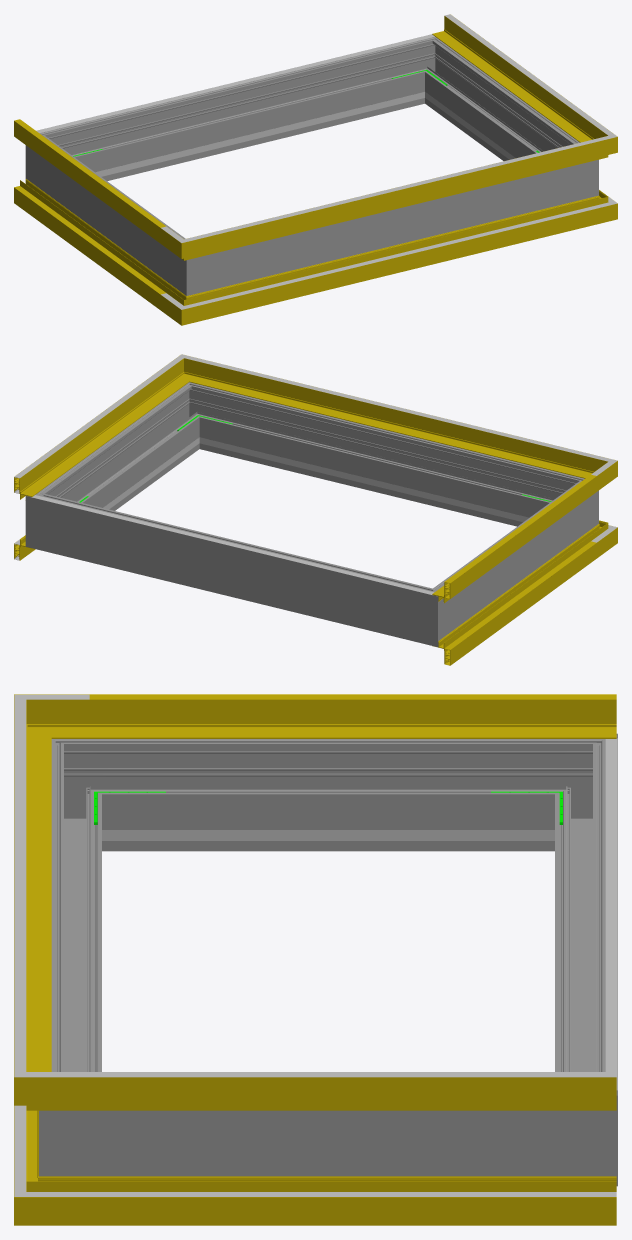
The picture shows the model from 3 angles, top to bottom: view 1: azimuth 30°, elevation 25°; view 2: azimuth 150°, elevation 25°; view 3: azimuth 270°, elevation 25°; orthographic projection. The views are drawn at different scales.
Visible parts, largest first — view 1: 3DGeom-276, 3DGeom-298, 3DGeom-90, 3DGeom-297, 3DGeom-56, 3DGeom-268, 3DGeom-85, 3DGeom-58, 3DGeom-50, 3DGeom-270, 3DGeom-244, 3DGeom-284 (+13 smaller); view 2: 3DGeom-298, 3DGeom-276, 3DGeom-56, 3DGeom-297, 3DGeom-85, 3DGeom-268, 3DGeom-58, 3DGeom-278, 3DGeom-50, 3DGeom-284, 3DGeom-239, 3DGeom-290 (+10 smaller); view 3: 3DGeom-268, 3DGeom-297, 3DGeom-97, 3DGeom-50, 3DGeom-58, 3DGeom-276, 3DGeom-298, 3DGeom-56, 3DGeom-284, 3DGeom-290, 3DGeom-270, 3DGeom-278 (+16 smaller).
Boxes of the visible parts, x1,y1,x2,y2 form: 3DGeom-276: (65,44,418,181); 3DGeom-298: (223,168,562,287); 3DGeom-90: (211,201,581,316); 3DGeom-297: (428,49,571,160); 3DGeom-56: (214,145,581,253); 3DGeom-268: (46,145,177,280); 3DGeom-85: (14,179,172,309); 3DGeom-58: (432,16,595,141); 3DGeom-50: (14,121,160,243); 3DGeom-270: (165,233,222,295); 3DGeom-244: (108,100,389,174); 3DGeom-284: (405,37,452,105); 3DGeom-298: (205,389,558,526); 3DGeom-276: (62,500,407,638); 3DGeom-56: (207,365,577,475); 3DGeom-297: (52,395,195,510); 3DGeom-85: (432,534,596,665); 3DGeom-268: (447,491,577,625); 3DGeom-58: (14,371,178,499); 3DGeom-278: (401,578,458,647); 3DGeom-50: (432,476,596,603); 3DGeom-284: (25,482,68,555); 3DGeom-239: (234,446,515,520); 3DGeom-290: (171,382,219,451); 3DGeom-268: (114,739,542,851); 3DGeom-297: (114,1110,542,1176); 3DGeom-97: (89,1176,616,1225); 3DGeom-50: (89,694,616,738); 3DGeom-58: (89,1077,616,1110); 3DGeom-276: (555,765,617,1071); 3DGeom-298: (51,765,101,1071); 3DGeom-56: (14,726,51,1071); 3DGeom-284: (542,1063,617,1186); 3DGeom-290: (39,1063,114,1176); 3DGeom-270: (51,739,114,851); 3DGeom-278: (542,733,617,851).
Size of the model in its own units: 1.83 by 0.3303 by 1.22.
